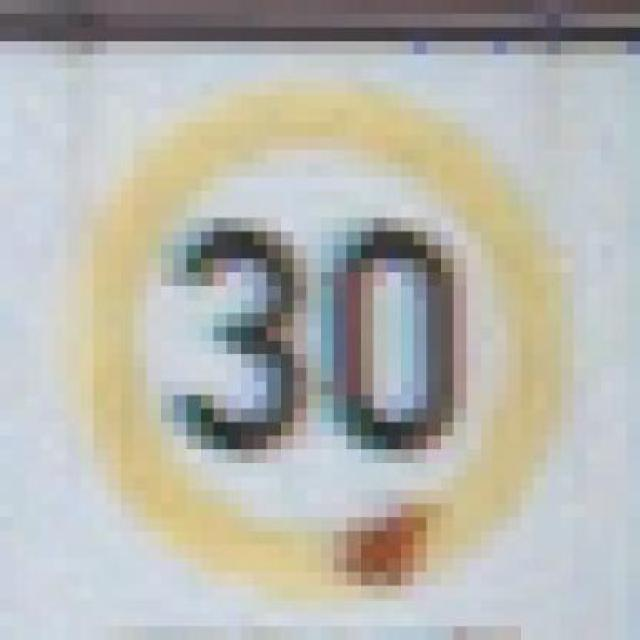Speed Limit 30 KMPh: (53, 68, 587, 586)
